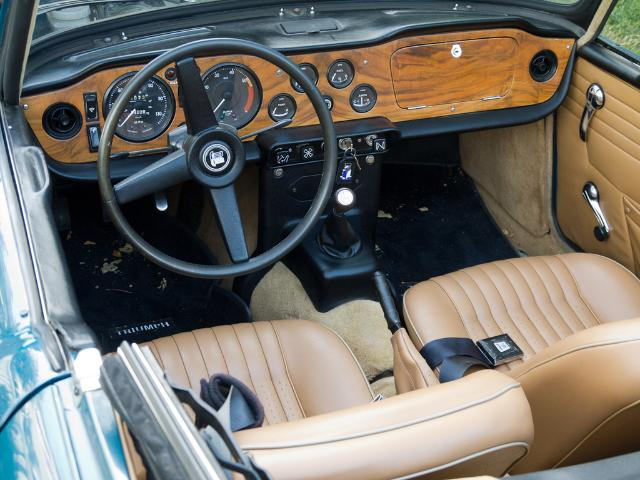Seatbelt: (205, 383, 261, 479), (418, 333, 520, 385)
